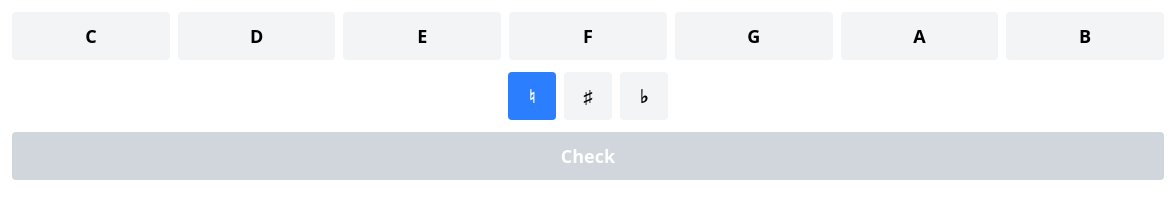
Test: NotePicker › Check button is enabled with single octave range (auto-selected) once letter is selected
Step 1. Click the button named "Note E" → (422,36), box left=343, top=12, right=501, bottom=60
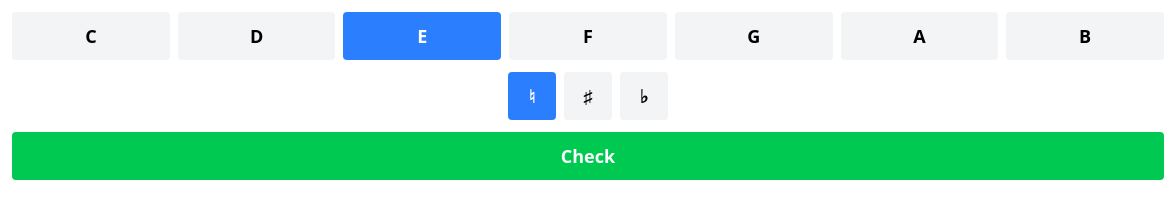
Result: the button with aria-label "Submit answer" is enabled at left=12, top=132, right=1164, bottom=180
